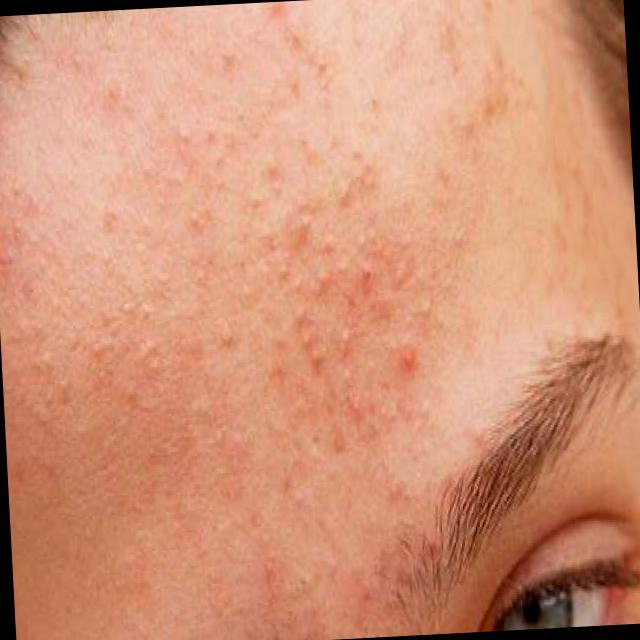fungal: (0, 0, 446, 546)
